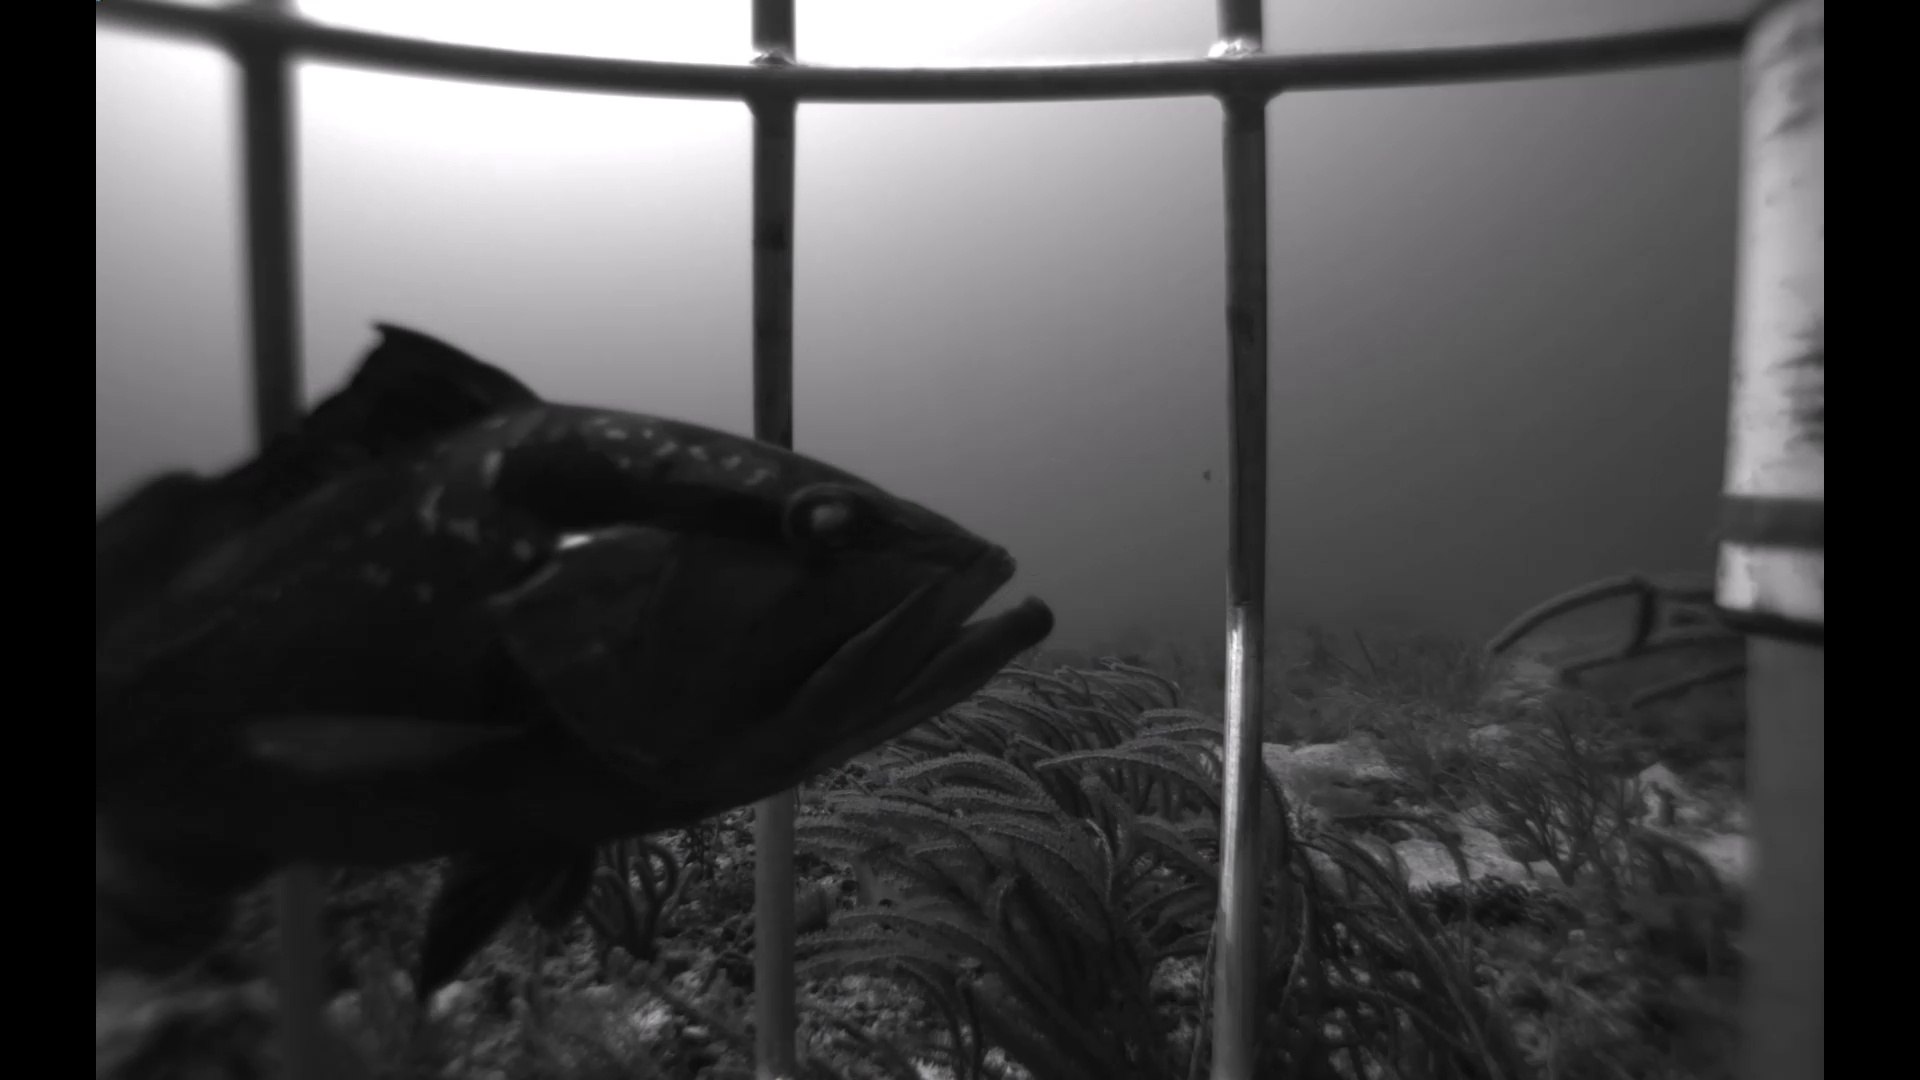CALAMUSNODOSUS-170210608: (832, 833, 918, 940)
EPINEPHELUSMORIO-170021211: (113, 297, 1073, 1026)
